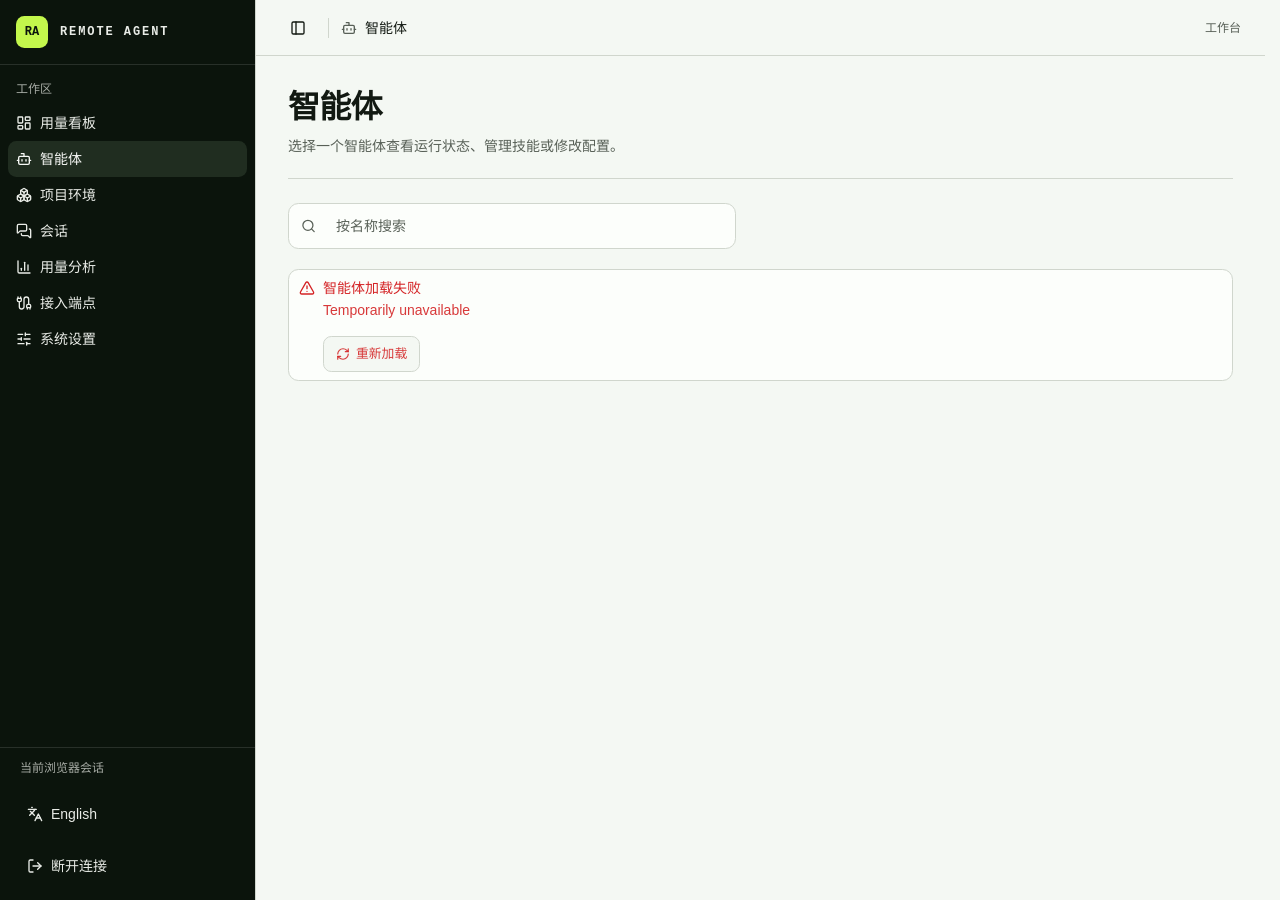
recovers a failed /agents list without leaving a loading skeleton
The image size is (1280, 900).
Expected: the message shows "智能体加载失败", top-left (323, 280), bottom-right (421, 296)
Step 1. Click the button "重新加载" → [372, 354], box top-left (323, 336), bottom-right (420, 372)
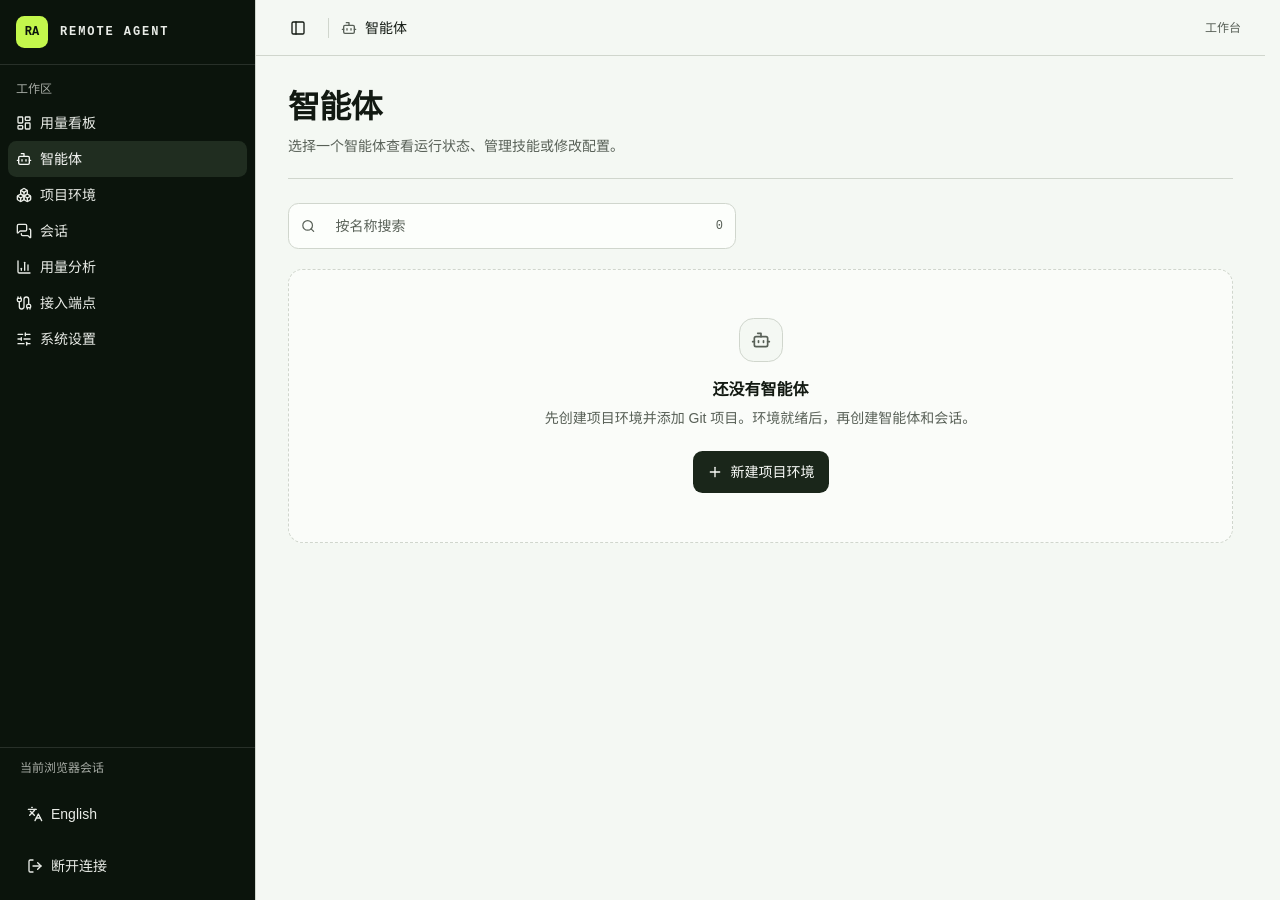
Expected: the heading "还没有智能体" is shown, top-left (712, 378), bottom-right (808, 402)
Expected: the message "智能体加载失败 Temporarily unavailable 重新加载" is gone
